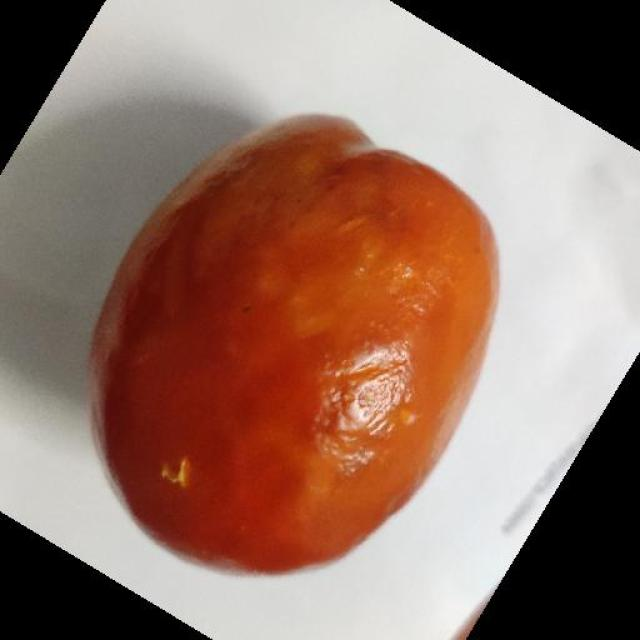Stale_tomato: (114, 84, 458, 592)
